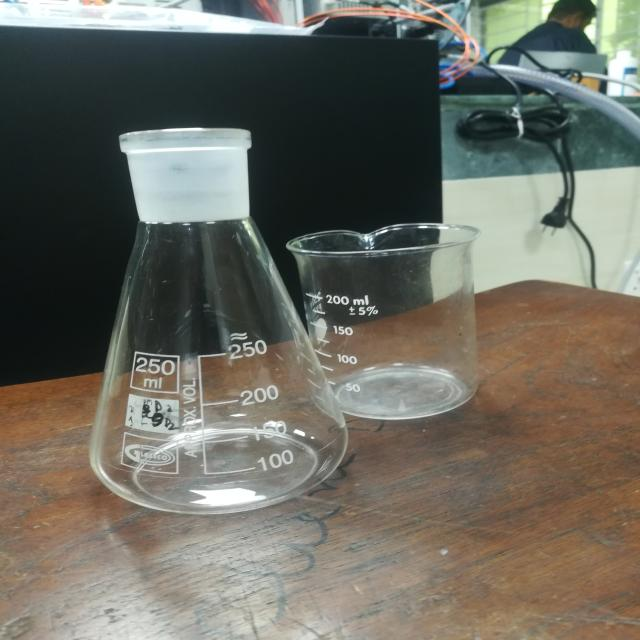Beaker: (290, 212, 530, 424)
Conical_Flask: (84, 89, 333, 523)
